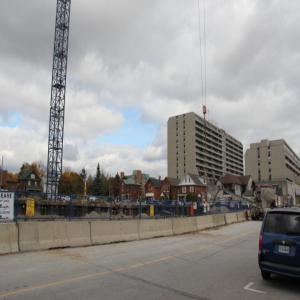Vehicle-registration-plate: (279, 247, 291, 254)
